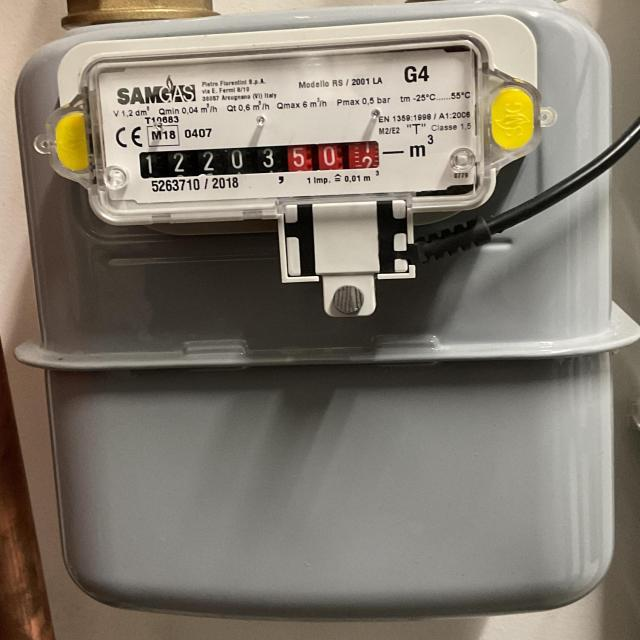gaz_meter: (95, 43, 478, 209)
indication: (136, 137, 385, 184)
